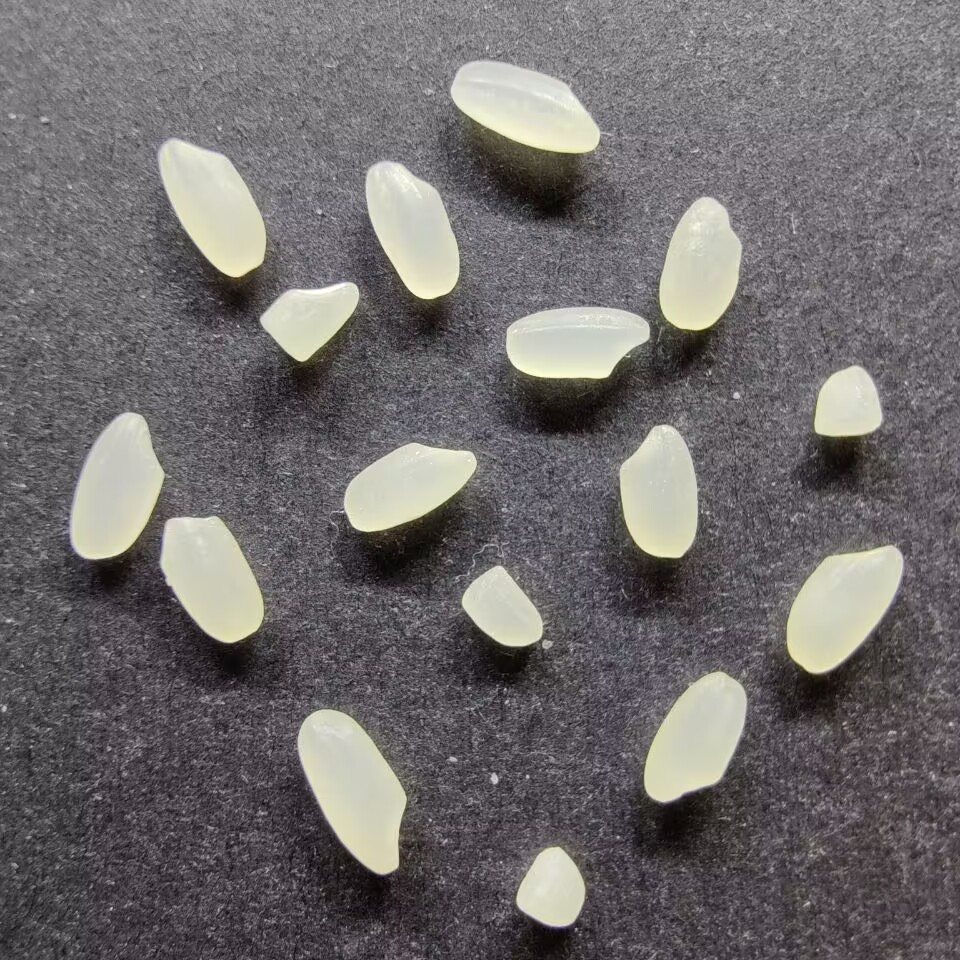broken: (256, 279, 361, 363), (457, 564, 547, 647), (512, 845, 586, 929), (811, 364, 885, 437)
rice: (294, 706, 409, 876), (783, 541, 905, 675), (155, 136, 269, 279), (448, 58, 603, 154), (67, 411, 166, 561), (641, 669, 749, 804), (158, 514, 266, 644), (362, 159, 461, 299), (341, 440, 478, 533), (656, 194, 743, 331), (503, 304, 652, 380), (616, 423, 699, 559)
